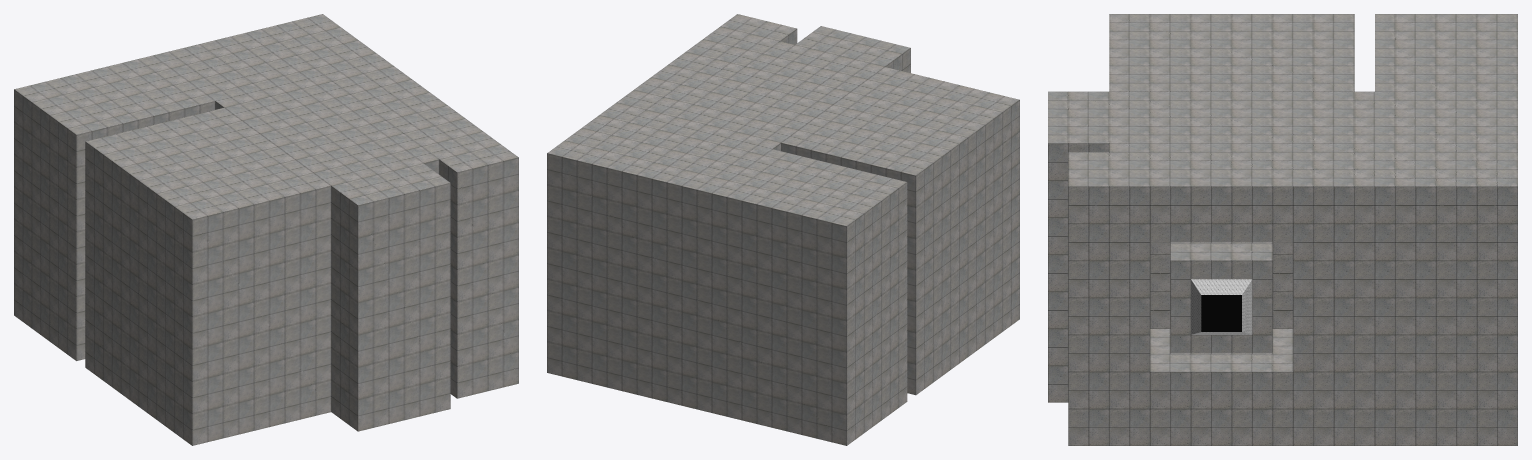
The model's file is PlayUpGrp3.dae.
3 views of the same model, side by side, from view 1: azimuth 30°, elevation 25°; view 2: azimuth 150°, elevation 25°; view 3: azimuth 270°, elevation 25° (orthographic). The views are drawn at different scales.
Visible parts, largest first — view 1: mesh0%root%0%; view 2: mesh0%root%0%; view 3: mesh0%root%0%, mesh0%root%1%, mesh0%root%2%.
Boxes of the visible parts, box(x1,y1,x2,y2) form: mesh0%root%0%: box(14, 14, 518, 445); mesh0%root%0%: box(547, 14, 1019, 445); mesh0%root%0%: box(1048, 14, 1517, 445); mesh0%root%1%: box(1191, 279, 1252, 334); mesh0%root%2%: box(1201, 295, 1241, 331).
Size of the model in its own units: 20.75 by 14 by 23.
